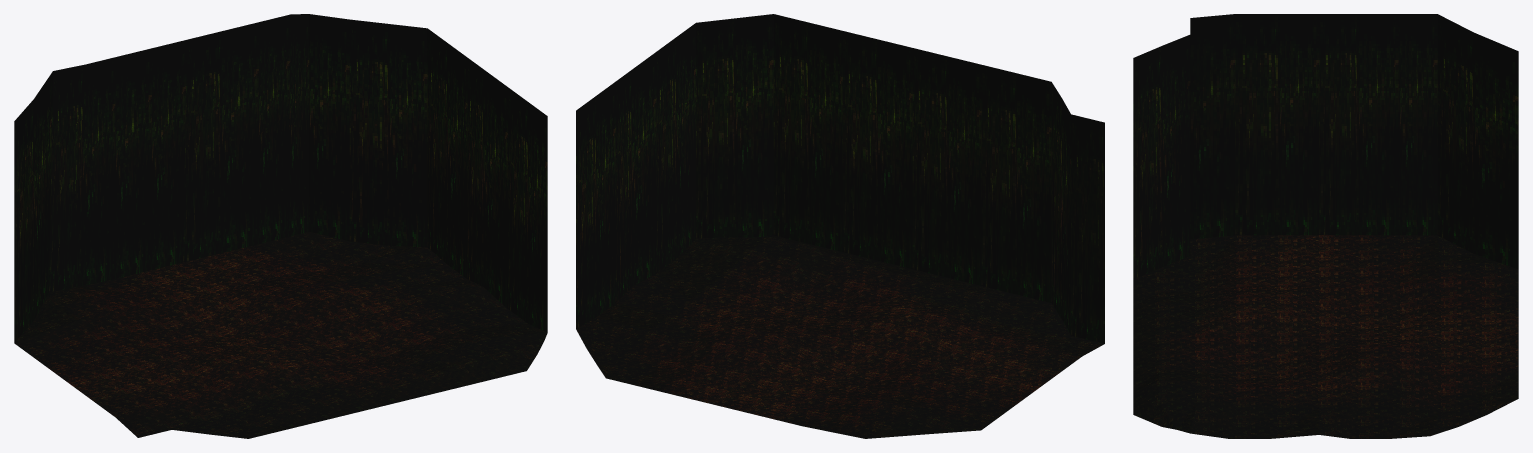
The model's file is Cuba.glb.
3 renders of one model, left to right at view 1: azimuth 30°, elevation 25°; view 2: azimuth 150°, elevation 25°; view 3: azimuth 270°, elevation 25°, orthographic.
Parts seen in each view (by area): view 1: Cuba_6, Cuba_3, Cuba_5, Cuba_1, Cuba_2, Cuba_0, Cuba_4; view 2: Cuba_6, Cuba_2, Cuba_4, Cuba_0, Cuba_3, Cuba_5, Cuba_1; view 3: Cuba_6, Cuba_1, Cuba_3, Cuba_5, Cuba_0, Cuba_2, Cuba_4.
Boxes of the visible parts, x1,y1,x2,y2 form: Cuba_6: (14,232,547,438); Cuba_3: (34,87,547,264); Cuba_5: (34,14,547,189); Cuba_1: (34,162,547,332); Cuba_2: (14,93,528,267); Cuba_0: (14,168,528,342); Cuba_4: (14,19,528,194); Cuba_6: (576,235,1104,438); Cuba_2: (576,87,1104,270); Cuba_4: (576,14,1104,195); Cuba_0: (576,162,1104,343); Cuba_3: (596,87,1070,261); Cuba_5: (596,14,1070,186); Cuba_1: (596,162,1070,334); Cuba_6: (1133,235,1518,438); Cuba_1: (1162,160,1518,269); Cuba_3: (1162,87,1518,196); Cuba_5: (1162,14,1518,123); Cuba_0: (1133,160,1473,279); Cuba_2: (1133,87,1473,205); Cuba_4: (1133,14,1473,130).
Size of the model in its own units: 39.38 by 21 by 32.13.
Materials: 7 (7 with a texture image).
